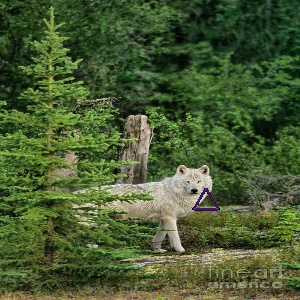triangle: (189, 185, 223, 212)
